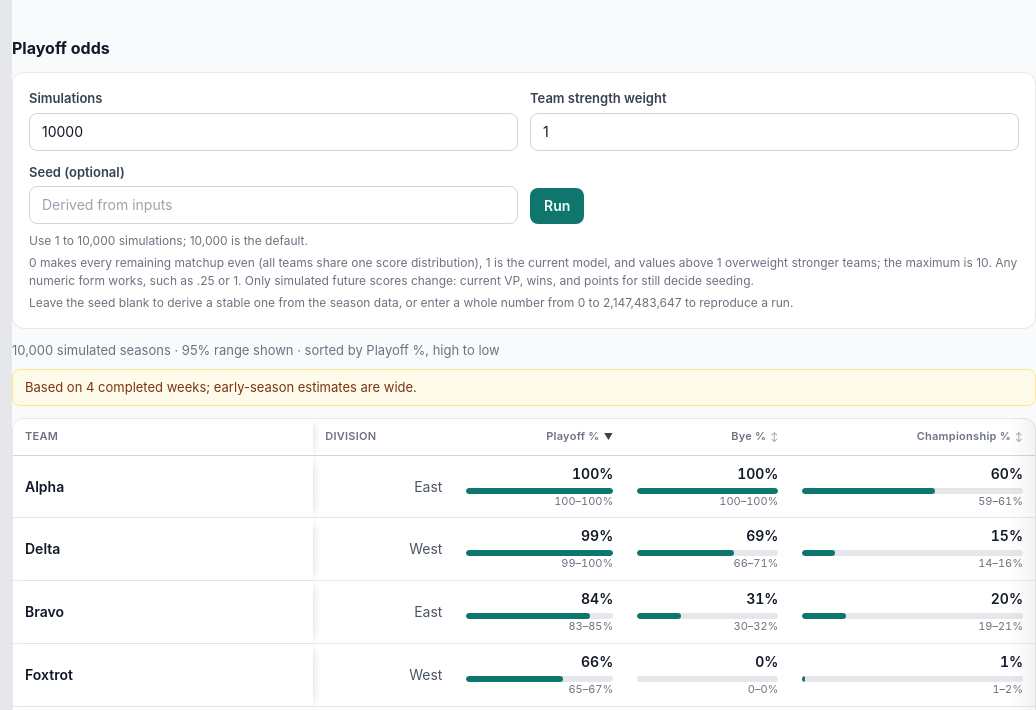
Test case: PlayoffOddsSection controls (AC-PO-19) › rejects a non-numeric weight before requesting the API
Replace the text in the field labelled "Team strength weight" with "abc": point(774, 132) [530, 112, 1019, 150]
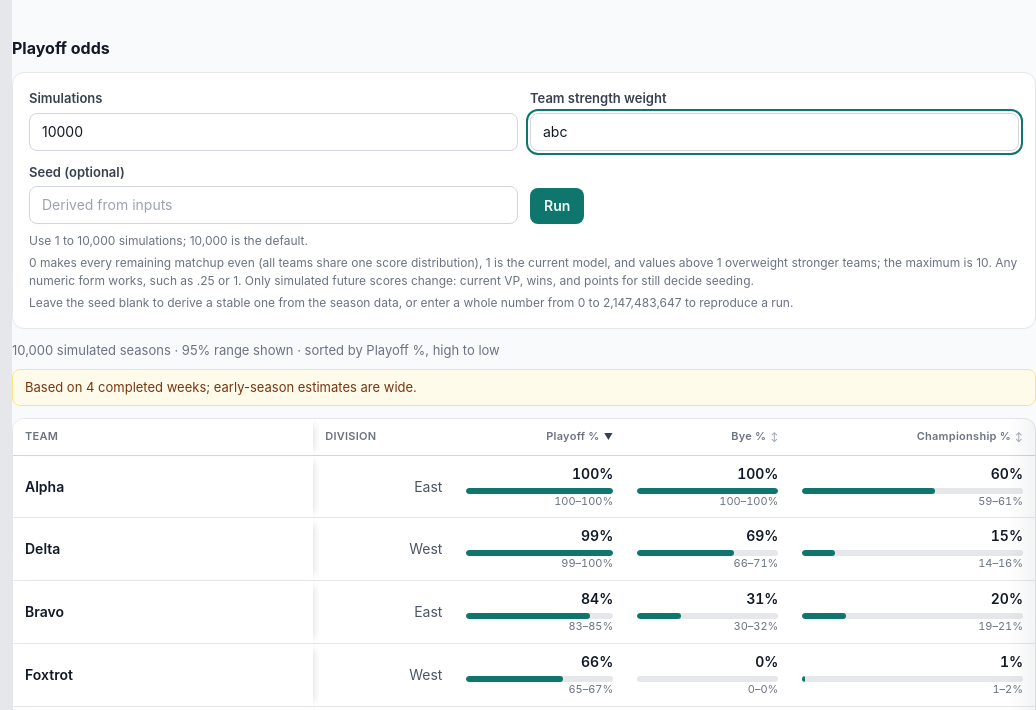
Click the button "Run": point(557, 206) [530, 188, 584, 224]
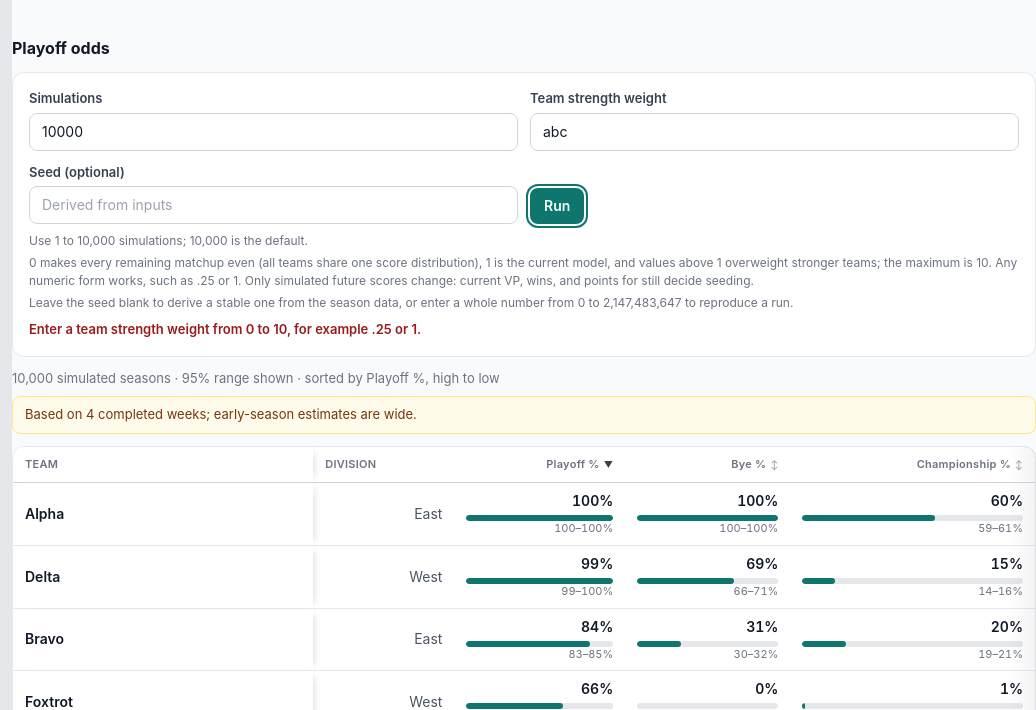
Now the message shows "Enter a team strength weight from 0 to 10", box [29, 321, 421, 337]
